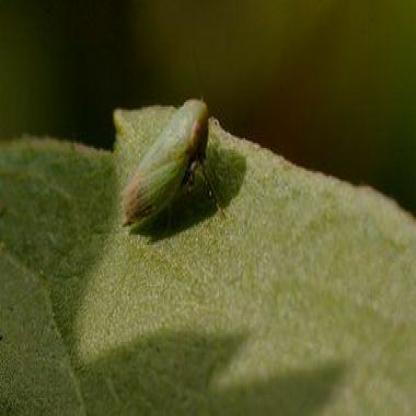green-leafhopper: (126, 99, 218, 224)
